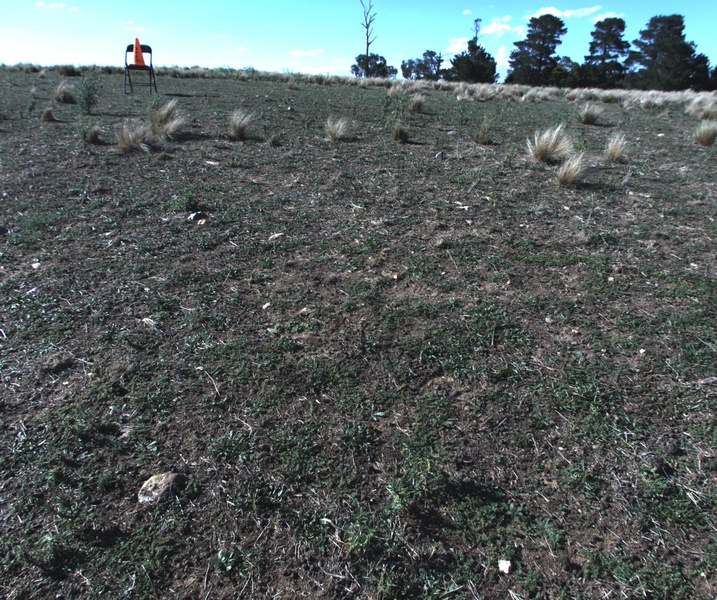st: (519, 128, 573, 166), (549, 157, 598, 189), (148, 98, 180, 141), (120, 125, 161, 154), (319, 115, 352, 147), (225, 105, 252, 135), (572, 104, 603, 127), (51, 75, 74, 104), (696, 117, 716, 150), (607, 135, 631, 162), (84, 120, 104, 144), (409, 91, 425, 115), (42, 104, 55, 123), (387, 83, 403, 97)
